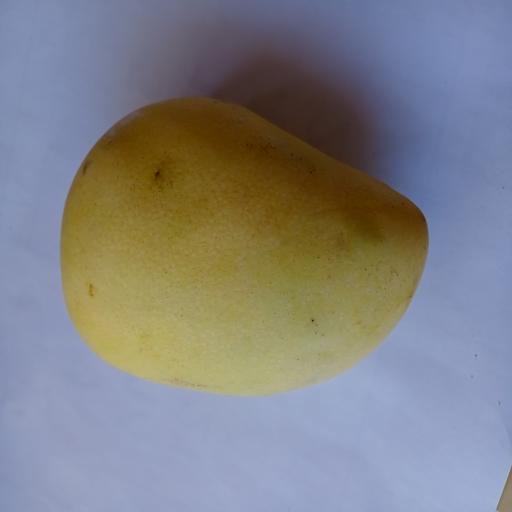mango-ripe: (42, 71, 441, 402)
